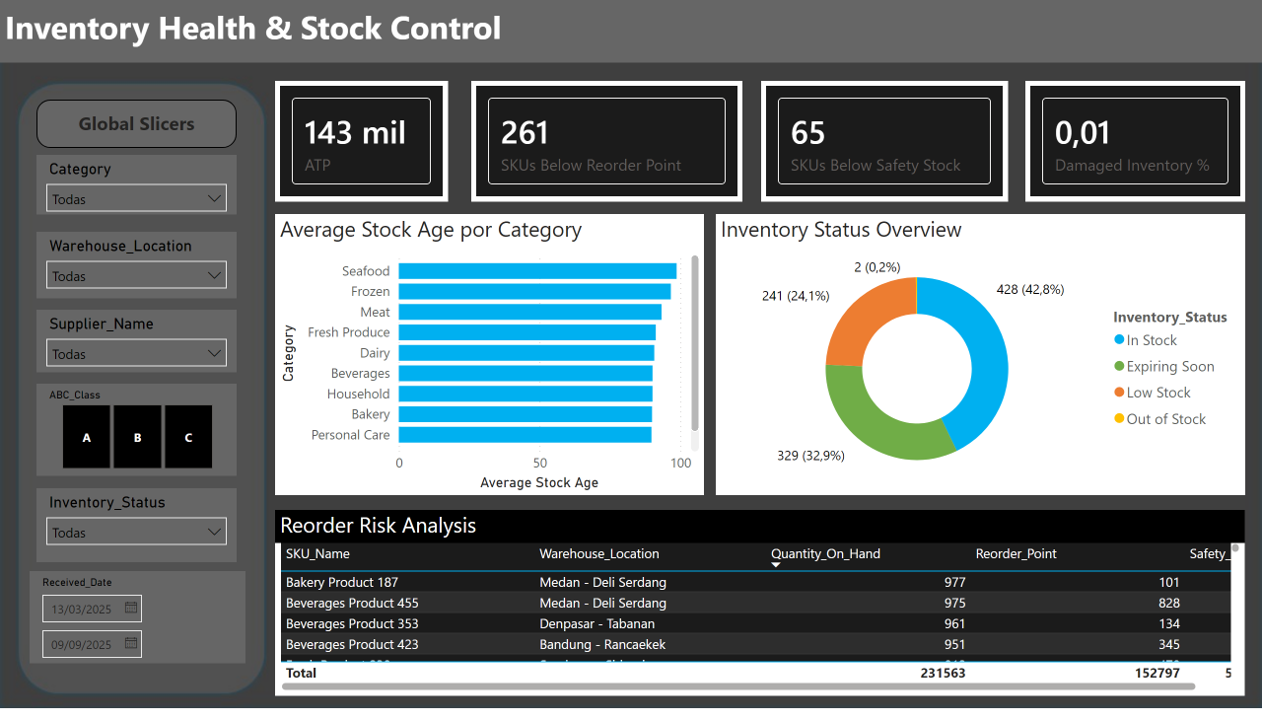

Layout of this report page (visuals, bound fields, positions):
{"tool":"powerbi","page":{"name":"INVENTORY HEALTH","canvas":[1280,720],"ordinal":1},"visuals":[{"type":"cardVisual","fields":{"Data":["Inventory.ATP"]},"box":[279.4,82.1,175.7,122.4],"z":0},{"type":"cardVisual","fields":{"Data":["Inventory.SKUs Below Reorder Point"]},"box":[478.1,82.1,275,122.4],"z":1000},{"type":"cardVisual","fields":{"Data":["Inventory.SKUs Below Safety Stock"]},"box":[771.8,82.1,250.6,122.4],"z":2000},{"type":"cardVisual","fields":{"Data":["Inventory.Damaged Inventory %"]},"box":[1039.7,82.1,223.2,122.4],"z":3000},{"type":"donutChart","title":"Inventory Status Overview","fields":{"Category":["Inventory.Inventory_Status"],"Y":["CountNonNull(Inventory.SKU_ID)"]},"box":[725.8,217.4,537.1,285.1],"z":4000},{"type":"barChart","fields":{"Category":["Inventory.Category"],"Y":["Inventory.Average Stock Age"]},"box":[279.4,217.4,434.9,285.1],"z":5000},{"type":"tableEx","title":"Reorder Risk Analysis","fields":{"Values":["Inventory.SKU_Name","Inventory.Warehouse_Location","Sum(Inventory.Quantity_On_Hand)","Sum(Inventory.Reorder_Point)","Sum(Inventory.Safety_Stock)"]},"box":[279.4,517,983.5,188.6],"z":6000},{"type":"slicer","fields":{"Values":["Inventory.Category"]},"box":[37.4,157,203,60.5],"z":7000},{"type":"slicer","fields":{"Values":["Inventory.Warehouse_Location"]},"box":[37.4,234.7,203,67.7],"z":8000},{"type":"slicer","fields":{"Values":["Inventory.Supplier_Name"]},"box":[37.4,313.9,203,63.4],"z":9000},{"type":"slicer","fields":{"Values":["Inventory.ABC_Class"]},"box":[37.4,388.8,203,93.6],"z":10000},{"type":"slicer","fields":{"Values":["Inventory.Inventory_Status"]},"box":[37.4,495.4,203,74.9],"z":11000},{"type":"slicer","fields":{"Values":["Inventory.Received_Date"]},"box":[30.2,578.9,218.9,93.6],"z":12000},{"type":"textbox","box":[37.4,100.8,203,49],"z":13000},{"type":"textbox","box":[0,0,1280.2,63.4],"z":14000}]}

Visuals, with their boxes in screenshot pixels (x1, y1, x2, y2), scaled from the page's 1280x720 canvas onto the 1262x720 screenshot:
cardVisual - Inventory.ATP: select_region(275, 82, 449, 204)
cardVisual - Inventory.SKUs Below Reorder Point: select_region(471, 82, 743, 204)
cardVisual - Inventory.SKUs Below Safety Stock: select_region(761, 82, 1008, 204)
cardVisual - Inventory.Damaged Inventory %: select_region(1025, 82, 1245, 204)
"Inventory Status Overview" donutChart: select_region(716, 217, 1245, 502)
barChart - Inventory.Category x Inventory.Average Stock Age: select_region(275, 217, 704, 502)
"Reorder Risk Analysis" tableEx: select_region(275, 517, 1245, 706)
slicer - Inventory.Category: select_region(37, 157, 237, 218)
slicer - Inventory.Warehouse_Location: select_region(37, 235, 237, 302)
slicer - Inventory.Supplier_Name: select_region(37, 314, 237, 377)
slicer - Inventory.ABC_Class: select_region(37, 389, 237, 482)
slicer - Inventory.Inventory_Status: select_region(37, 495, 237, 570)
slicer - Inventory.Received_Date: select_region(30, 579, 246, 672)
textbox: select_region(37, 101, 237, 150)
textbox: select_region(0, 0, 1261, 63)
